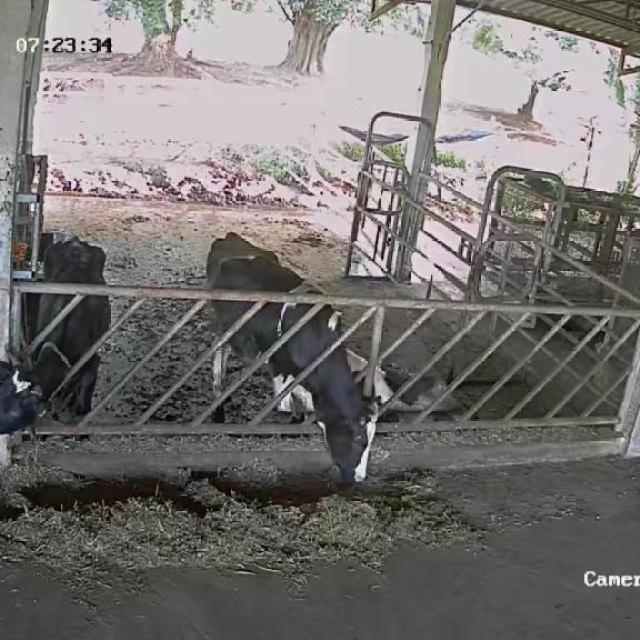feeding: (190, 232, 378, 486), (0, 234, 110, 456)
